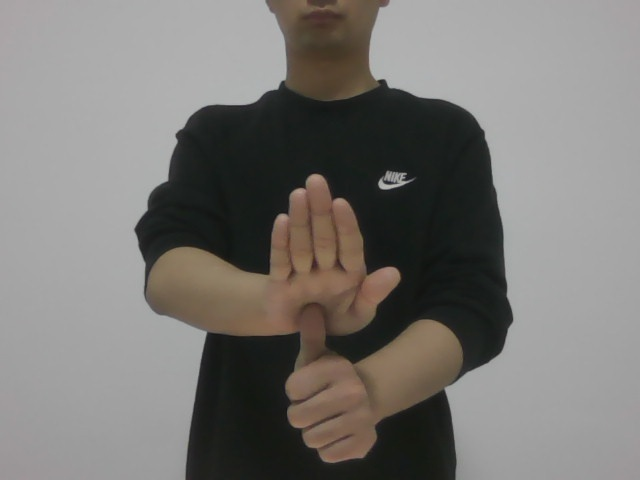love: (257, 164, 399, 471)
